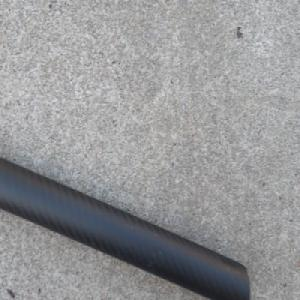LuggagePart: (0, 154, 251, 300)
